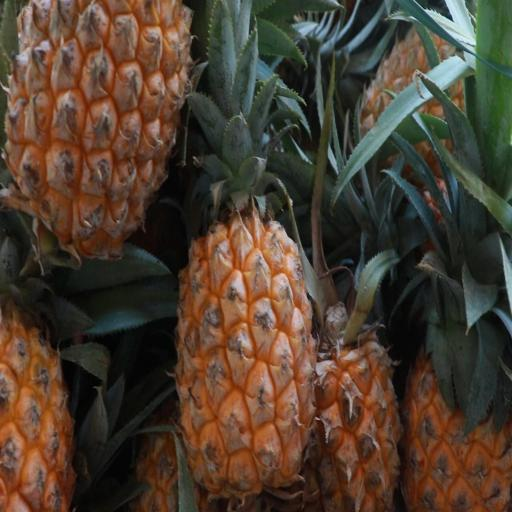Pineapple - v8 v1: (172, 141, 323, 503), (5, 0, 196, 265), (399, 187, 510, 512), (294, 288, 404, 512)
